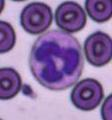N: (28, 31, 84, 90)
